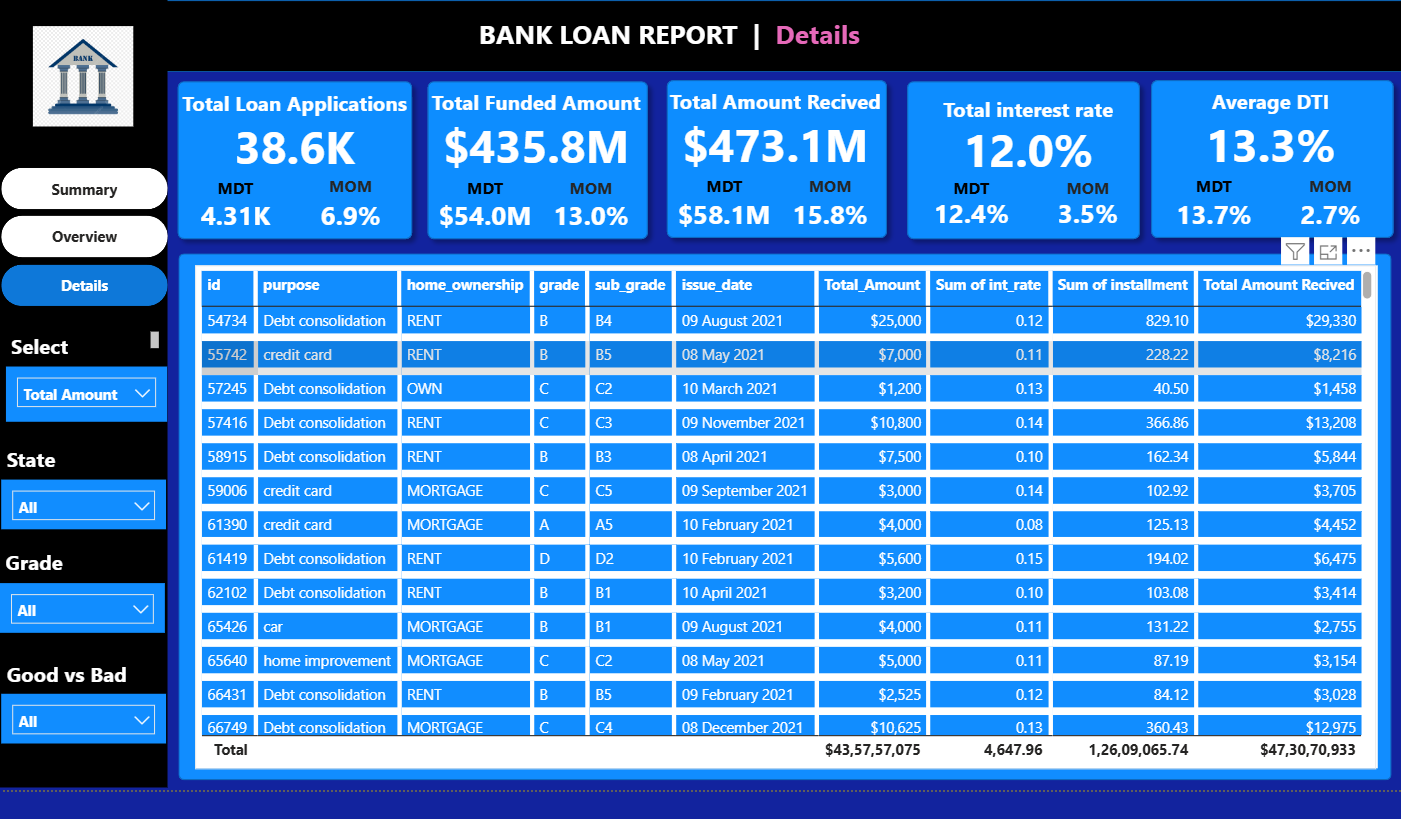

Layout of this report page (visuals, bound fields, positions):
{"tool":"powerbi","page":{"name":"Details","canvas":[1280,720],"ordinal":2},"visuals":[{"type":"shape","box":[0,0,1280.1,65.8],"z":0},{"type":"textbox","box":[431.8,8.9,416.6,46.8],"z":1000},{"type":"shape","box":[0,0,152.8,718.7],"z":2000},{"type":"shape","box":[599.6,64.1,218.9,162.1],"z":3000,"group":"g3"},{"type":"shape","box":[1040.3,64.1,239.3,162.1],"z":3000,"group":"g5"},{"type":"shape","box":[819.2,64.8,230.4,162.1],"z":3000,"group":"g4"},{"type":"group","id":"g1","title":"Group 1","box":[149.2,65.5,241.2,163.1],"z":3000},{"type":"shape","box":[153.7,65.5,232,162.1],"z":3000,"group":"g1"},{"type":"shape","box":[380.7,65.5,219,162.1],"z":3000,"group":"g2"},{"type":"group","id":"g2","title":"Group 1","box":[380.7,65.5,218.9,161.8],"z":4000},{"type":"card","title":"Total Amount Recived","fields":{"Values":["financial_loan.Total Amount Recived"]},"box":[599.7,79.2,216.2,78.8],"z":4000,"group":"g3"},{"type":"card","title":"Average DTI","fields":{"Values":["financial_loan.Avg DTI"]},"box":[1040.4,79.2,236.3,78.8],"z":4000,"group":"g5"},{"type":"card","title":"Total Funded Amount","fields":{"Values":["financial_loan.Total_Amount"]},"box":[380.8,80.6,216.3,78.8],"z":4000,"group":"g2"},{"type":"card","title":"Total Loan Applications","fields":{"Values":["Date Table.Total_Apps"]},"box":[149.2,81.5,240.1,77.3],"z":4000,"group":"g1"},{"type":"card","title":"Total interest rate","fields":{"Values":["financial_loan.Total Int Rate"]},"box":[820,86.2,236.8,72.3],"z":4000,"group":"g4"},{"type":"group","id":"g3","title":"Group 1","box":[599.6,64.1,218.9,163.1],"z":5000},{"type":"card","title":"MDT","fields":{"Values":["financial_loan.MTD Total Amount Recived"]},"box":[608.9,159.4,103.5,54.4],"z":5000,"group":"g3"},{"type":"card","title":"MDT","fields":{"Values":["financial_loan.MTD Avg DTI"]},"box":[1050.4,159.4,113.1,54.4],"z":5000,"group":"g5"},{"type":"card","title":"MDT","fields":{"Values":["financial_loan.MTD Total intrest rate"]},"box":[830,159.8,113.4,49.9],"z":5000,"group":"g4"},{"type":"card","title":"MDT","fields":{"Values":["financial_loan.MTD Total Amount"]},"box":[390,160.8,103.5,54.4],"z":5000,"group":"g2"},{"type":"card","title":"MDT","fields":{"Values":["Date Table.MTD Loan Application"]},"box":[178,161.5,73.6,54.4],"z":5000,"group":"g1"},{"type":"group","id":"g4","title":"Group 1","box":[819.2,64.8,235.7,163.1],"z":6000},{"type":"card","title":"MOM","fields":{"Values":["financial_loan.MoM Total Amount Recived"]},"box":[705.8,159.4,103.5,54.4],"z":6000,"group":"g3"},{"type":"card","title":"MOM","fields":{"Values":["financial_loan.MoM Avg DTI"]},"box":[1156.4,159.4,113.1,54.4],"z":6000,"group":"g5"},{"type":"card","title":"MOM","fields":{"Values":["financial_loan.MoM int rate"]},"box":[936.2,159.8,113.4,49.9],"z":6000,"group":"g4"},{"type":"card","title":"MOM","fields":{"Values":["financial_loan.MoM"]},"box":[277.5,160.2,86.1,55.8],"z":6000,"group":"g1"},{"type":"card","title":"MOM","fields":{"Values":["financial_loan.MoM Total Amount"]},"box":[487,160.8,103.5,54.4],"z":6000,"group":"g2"},{"type":"group","id":"g5","title":"Group 1","box":[0.6,64.1,1279,418.6],"z":7000,"group":"g6"},{"type":"slicer","fields":{"Values":["financial_loan.grade"]},"box":[-0.4,531.6,150.7,45.6],"z":7000},{"type":"slicer","fields":{"Values":["financial_loan.Good vs Bad loan"]},"box":[0.7,632.7,150.7,45.6],"z":8000},{"type":"textbox","box":[5.1,297.5,144.3,36.7],"z":9000},{"type":"textbox","box":[0.1,495.5,77.2,36.7],"z":10000},{"type":"textbox","box":[1.3,596.8,151.1,37.5],"z":11000},{"type":"group","id":"g6","title":"Group 5","box":[0.6,64.1,1279,418.6],"z":12000},{"type":"shape","box":[163.1,230.7,1106.7,480.6],"z":13000},{"type":"slicer","fields":{"Values":["Select measure.Select measure"]},"box":[5.1,334.3,146.9,50.6],"z":14000},{"type":"tableEx","fields":{"Values":["financial_loan.id","financial_loan.purpose","financial_loan.home_ownership","financial_loan.grade","financial_loan.sub_grade","financial_loan.issue_date","financial_loan.Total_Amount","Sum(financial_loan.int_rate)","Sum(financial_loan.installment)","financial_loan.Total Amount Recived"]},"box":[177.8,242.5,1078.7,458.5],"z":14001},{"type":"slicer","fields":{"Values":["financial_loan.address_state"]},"box":[0.6,437.2,150.7,45.6],"z":14001,"group":"g5"},{"type":"pageNavigator","box":[1.5,152.8,152.8,126.4],"z":14002},{"type":"image","box":[25,8.8,101.4,122],"z":14003},{"type":"textbox","box":[1.1,401.1,77.2,36.7],"z":16002,"group":"g6"}]}

Visuals, with their boxes on the page's 1280x720 design canvas (x1, y1, x2, y2). These are canvas units, not pixel positions in the 1401x819 screenshot, which may show the page scaled, cropped or inside an application window:
shape: rect(0, 0, 1280, 66)
textbox: rect(432, 9, 848, 56)
shape: rect(0, 0, 153, 719)
shape: rect(600, 64, 818, 226)
shape: rect(1040, 64, 1280, 226)
shape: rect(819, 65, 1050, 227)
"Group 1" group: rect(149, 66, 390, 229)
shape: rect(154, 66, 386, 228)
shape: rect(381, 66, 600, 228)
"Group 1" group: rect(381, 66, 600, 227)
"Total Amount Recived" card: rect(600, 79, 816, 158)
"Average DTI" card: rect(1040, 79, 1277, 158)
"Total Funded Amount" card: rect(381, 81, 597, 159)
"Total Loan Applications" card: rect(149, 82, 389, 159)
"Total interest rate" card: rect(820, 86, 1057, 158)
"Group 1" group: rect(600, 64, 818, 227)
"MDT" card: rect(609, 159, 712, 214)
"MDT" card: rect(1050, 159, 1164, 214)
"MDT" card: rect(830, 160, 943, 210)
"MDT" card: rect(390, 161, 494, 215)
"MDT" card: rect(178, 162, 252, 216)
"Group 1" group: rect(819, 65, 1055, 228)
"MOM" card: rect(706, 159, 809, 214)
"MOM" card: rect(1156, 159, 1270, 214)
"MOM" card: rect(936, 160, 1050, 210)
"MOM" card: rect(278, 160, 364, 216)
"MOM" card: rect(487, 161, 590, 215)
"Group 1" group: rect(1, 64, 1280, 483)
slicer - financial_loan.grade: rect(0, 532, 150, 577)
slicer - financial_loan.Good vs Bad loan: rect(1, 633, 151, 678)
textbox: rect(5, 298, 149, 334)
textbox: rect(0, 496, 77, 532)
textbox: rect(1, 597, 152, 634)
"Group 5" group: rect(1, 64, 1280, 483)
shape: rect(163, 231, 1270, 711)
slicer - Select measure.Select measure: rect(5, 334, 152, 385)
tableEx - financial_loan.id x financial_loan.purpose: rect(178, 242, 1256, 701)
slicer - financial_loan.address_state: rect(1, 437, 151, 483)
pageNavigator: rect(2, 153, 154, 279)
image: rect(25, 9, 126, 131)
textbox: rect(1, 401, 78, 438)
